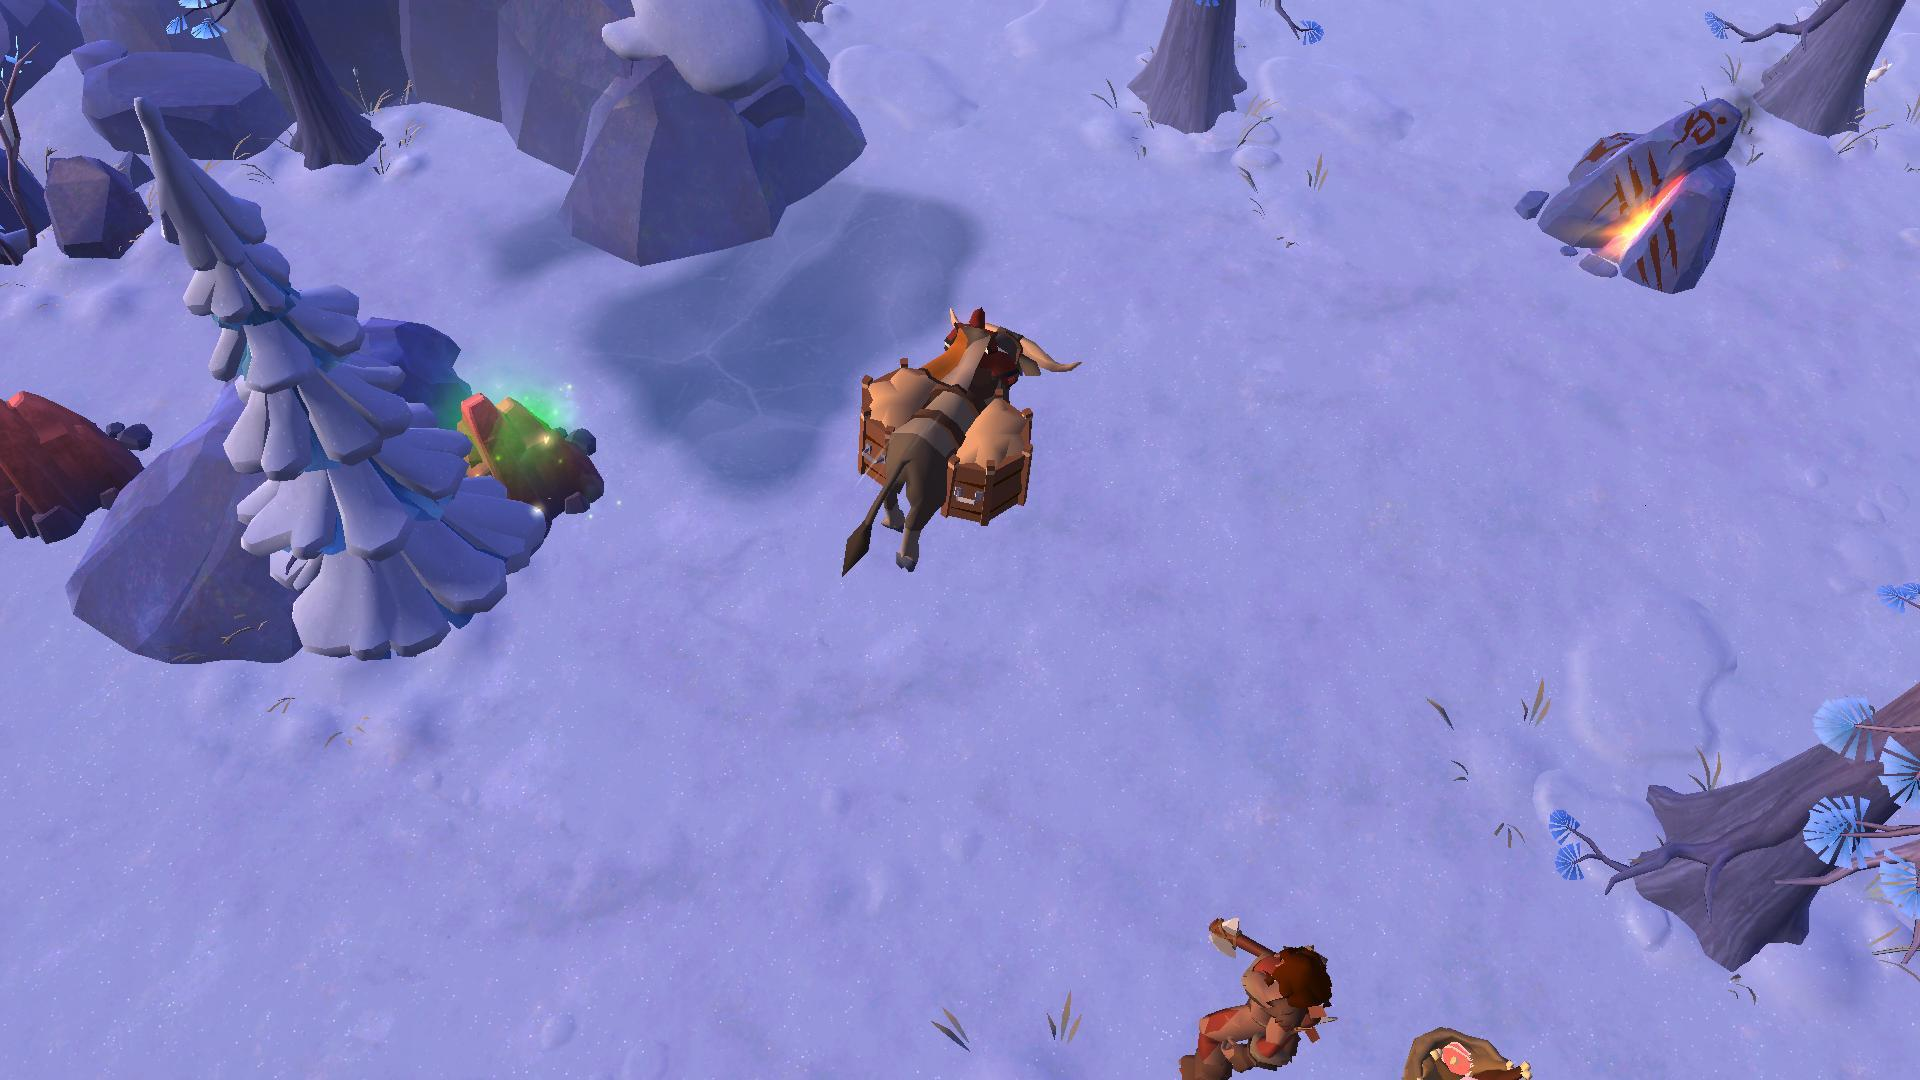enemy_factionKeeper: (1170, 915, 1332, 1080)
rock_t5: (450, 380, 616, 534), (0, 373, 152, 539)
